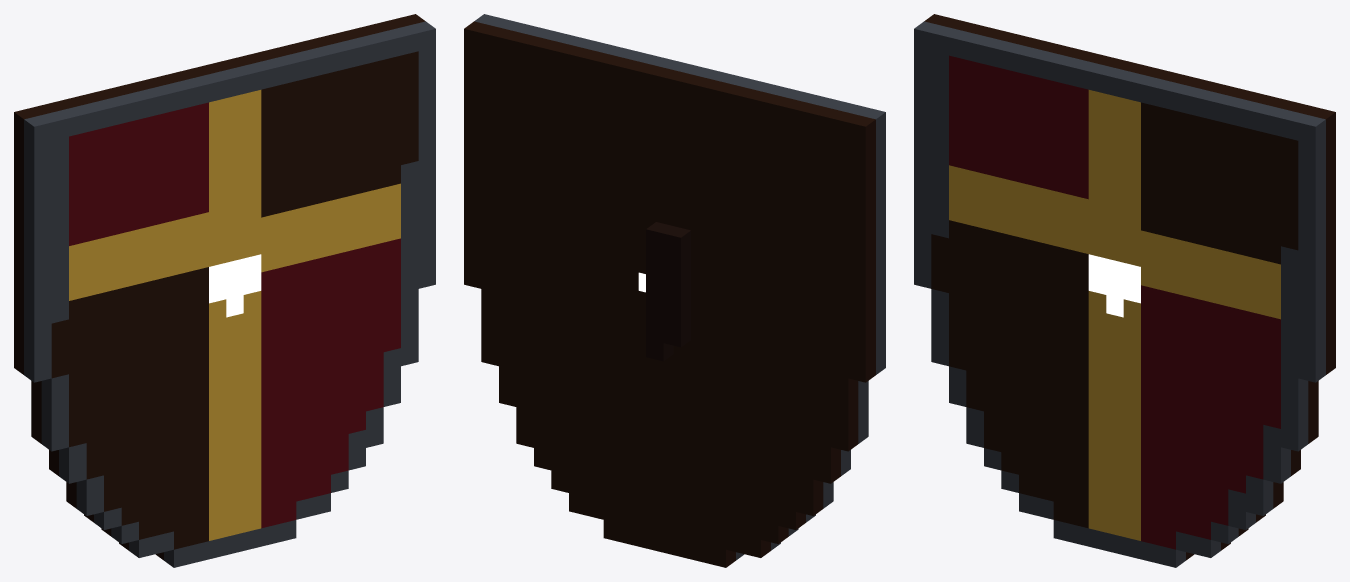
The model's file is gullhaven_kite_shield_lod1.glb.
3 renders of one model, left to right at view 1: azimuth 30°, elevation 25°; view 2: azimuth 150°, elevation 25°; view 3: azimuth 330°, elevation 25°, orthographic.
Visible parts, largest first — view 1: gullhaven_kite_shield_lod1; view 2: gullhaven_kite_shield_lod1; view 3: gullhaven_kite_shield_lod1.
Boxes of the visible parts, <box> form: gullhaven_kite_shield_lod1: <box>14,14,435,567</box>; gullhaven_kite_shield_lod1: <box>464,14,885,567</box>; gullhaven_kite_shield_lod1: <box>914,14,1335,567</box>.
Size of the model in its own units: 0.69 by 0.78 by 0.09.
